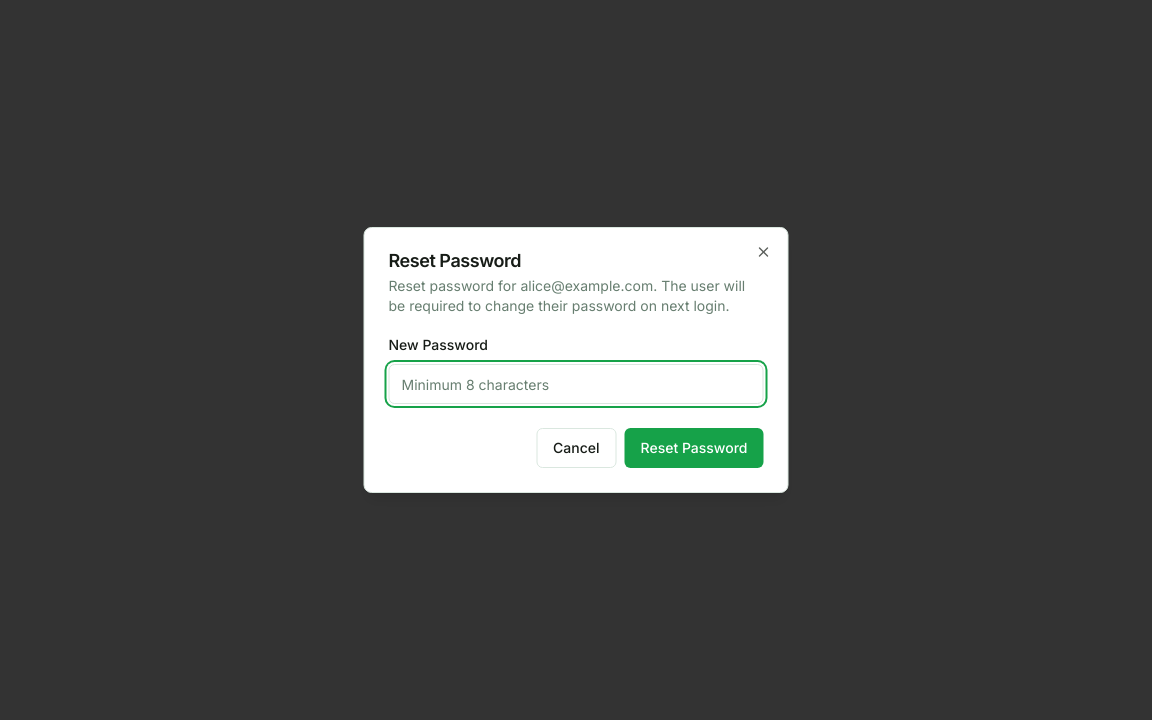
ResetPasswordDialog › shows validation error for short password
Type "short" into the password field with test id "reset-password-input". click: (576, 384)
box: [388,364,764,404]
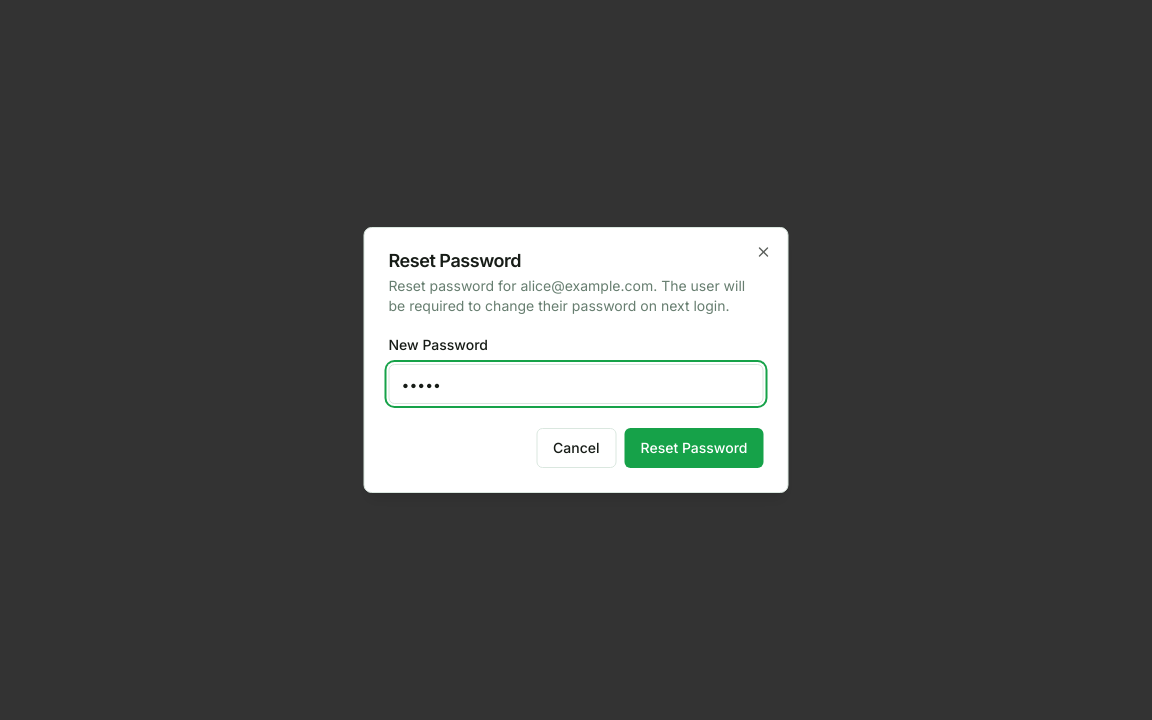
Click the button with test id "reset-password-submit". click: click(694, 448)
box: [624,428,764,468]
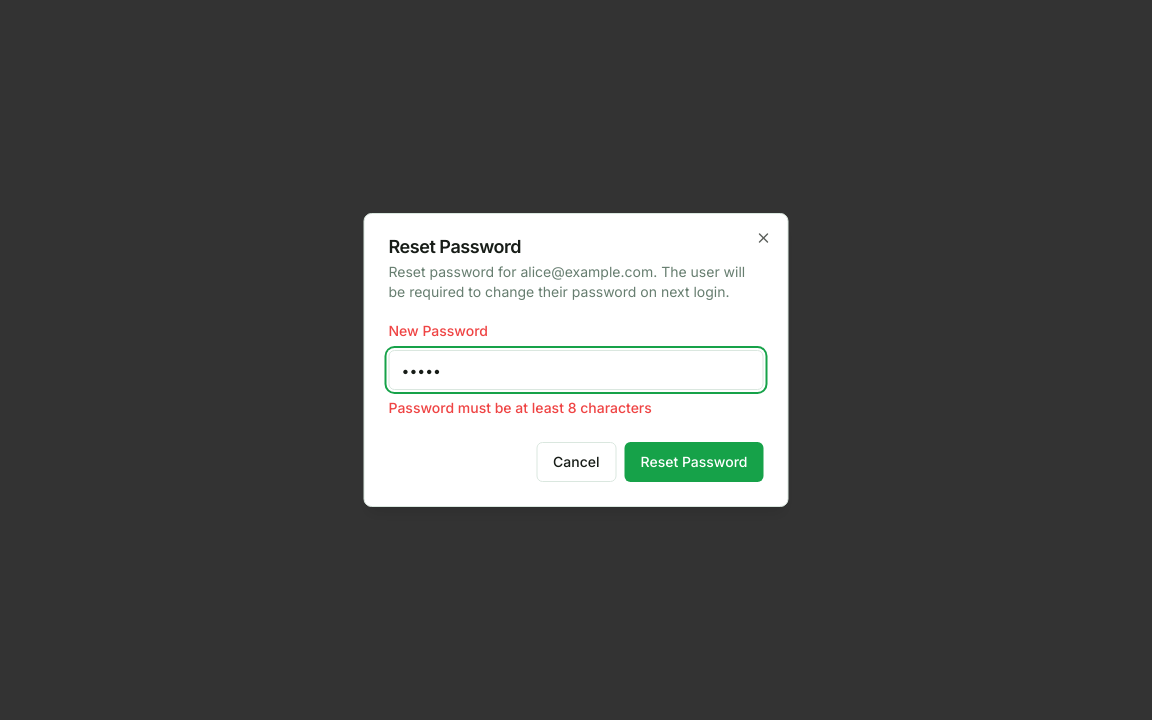
Now the text "Password must be at least 8 characters" is shown, box [388,399,652,416]
